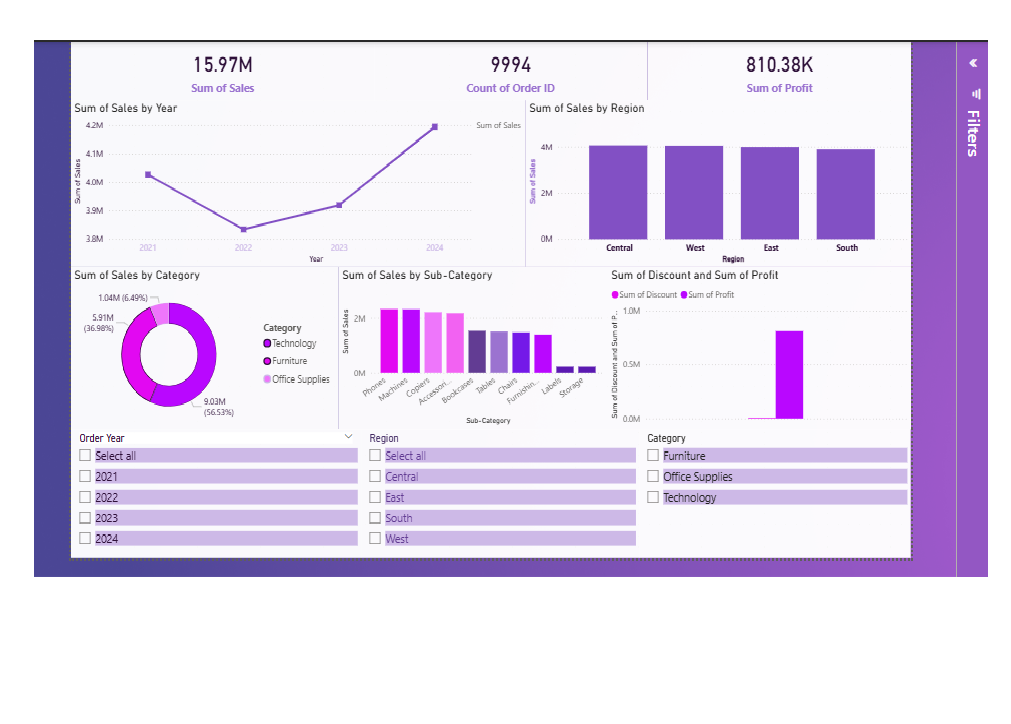

This screenshot's page, from the dashboard's own definition file:
{"tool":"powerbi","page":{"name":"Page 1","canvas":[1280,720],"ordinal":0},"visuals":[{"type":"card","fields":{"Values":["Sum(sales_data_cleaned.Sales)"]},"box":[0,0,461.9,80.6],"z":0},{"type":"card","fields":{"Values":["Sum(sales_data_cleaned.Profit)"]},"box":[878.5,0,401.5,80.6],"z":1000},{"type":"card","fields":{"Values":["Count(sales_data_cleaned.Order ID)"]},"box":[461.9,0,416.6,80.6],"z":2000},{"type":"lineChart","fields":{"Category":["sales_data_cleaned.Order Year-Month.Variation.Date Hierarchy.Year","sales_data_cleaned.Order Year-Month.Variation.Date Hierarchy.Quarter","sales_data_cleaned.Order Year-Month.Variation.Date Hierarchy.Month","sales_data_cleaned.Order Year-Month.Variation.Date Hierarchy.Day"],"Y":["Sum(sales_data_cleaned.Sales)"]},"box":[0,80.8,693.3,233.1],"z":3000},{"type":"lineClusteredColumnComboChart","fields":{"Category":["sales_data_cleaned.Region"],"Y":["Sum(sales_data_cleaned.Sales)"]},"box":[693.3,80.8,586.7,233.1],"z":4000},{"type":"donutChart","fields":{"Category":["sales_data_cleaned.Category"],"Y":["Sum(sales_data_cleaned.Sales)"]},"box":[0,313.9,408.4,225.5],"z":5000},{"type":"lineClusteredColumnComboChart","fields":{"Category":["sales_data_cleaned.Sub-Category"],"Y":["Sum(sales_data_cleaned.Sales)"]},"box":[408.4,313.9,409.9,225.5],"z":6000},{"type":"lineClusteredColumnComboChart","fields":{"Y":["Sum(sales_data_cleaned.Discount)","Sum(sales_data_cleaned.Profit)"]},"box":[818.3,313.9,461.7,225.5],"z":7000},{"type":"slicer","fields":{"Values":["sales_data_cleaned.Order Year"]},"box":[0,539.4,441.9,181.3],"z":8000},{"type":"slicer","fields":{"Values":["sales_data_cleaned.Category"]},"box":[865.5,539.4,414.5,181.3],"z":9000},{"type":"slicer","fields":{"Values":["sales_data_cleaned.Region"]},"box":[441.9,539.4,423.6,181.3],"z":10000}]}

Visuals, with their boxes on the page's 1280x720 design canvas (x1, y1, x2, y2). These are canvas units, not pixel positions in the 1011x724 screenshot, which may show the page scaled, cropped or inside an application window:
card - Sum(sales_data_cleaned.Sales): pyautogui.locateOnScreen(0, 0, 462, 81)
card - Sum(sales_data_cleaned.Profit): pyautogui.locateOnScreen(878, 0, 1280, 81)
card - Count(sales_data_cleaned.Order ID): pyautogui.locateOnScreen(462, 0, 878, 81)
lineChart - sales_data_cleaned.Order Year-Month.Variation.Date Hierarchy.Year x sales_data_cleaned.Order Year-Month.Variation.Date Hierarchy.Quarter: pyautogui.locateOnScreen(0, 81, 693, 314)
lineClusteredColumnComboChart - sales_data_cleaned.Region x Sum(sales_data_cleaned.Sales): pyautogui.locateOnScreen(693, 81, 1280, 314)
donutChart - sales_data_cleaned.Category x Sum(sales_data_cleaned.Sales): pyautogui.locateOnScreen(0, 314, 408, 539)
lineClusteredColumnComboChart - sales_data_cleaned.Sub-Category x Sum(sales_data_cleaned.Sales): pyautogui.locateOnScreen(408, 314, 818, 539)
lineClusteredColumnComboChart - Sum(sales_data_cleaned.Discount) x Sum(sales_data_cleaned.Profit): pyautogui.locateOnScreen(818, 314, 1280, 539)
slicer - sales_data_cleaned.Order Year: pyautogui.locateOnScreen(0, 539, 442, 721)
slicer - sales_data_cleaned.Category: pyautogui.locateOnScreen(866, 539, 1280, 721)
slicer - sales_data_cleaned.Region: pyautogui.locateOnScreen(442, 539, 866, 721)
